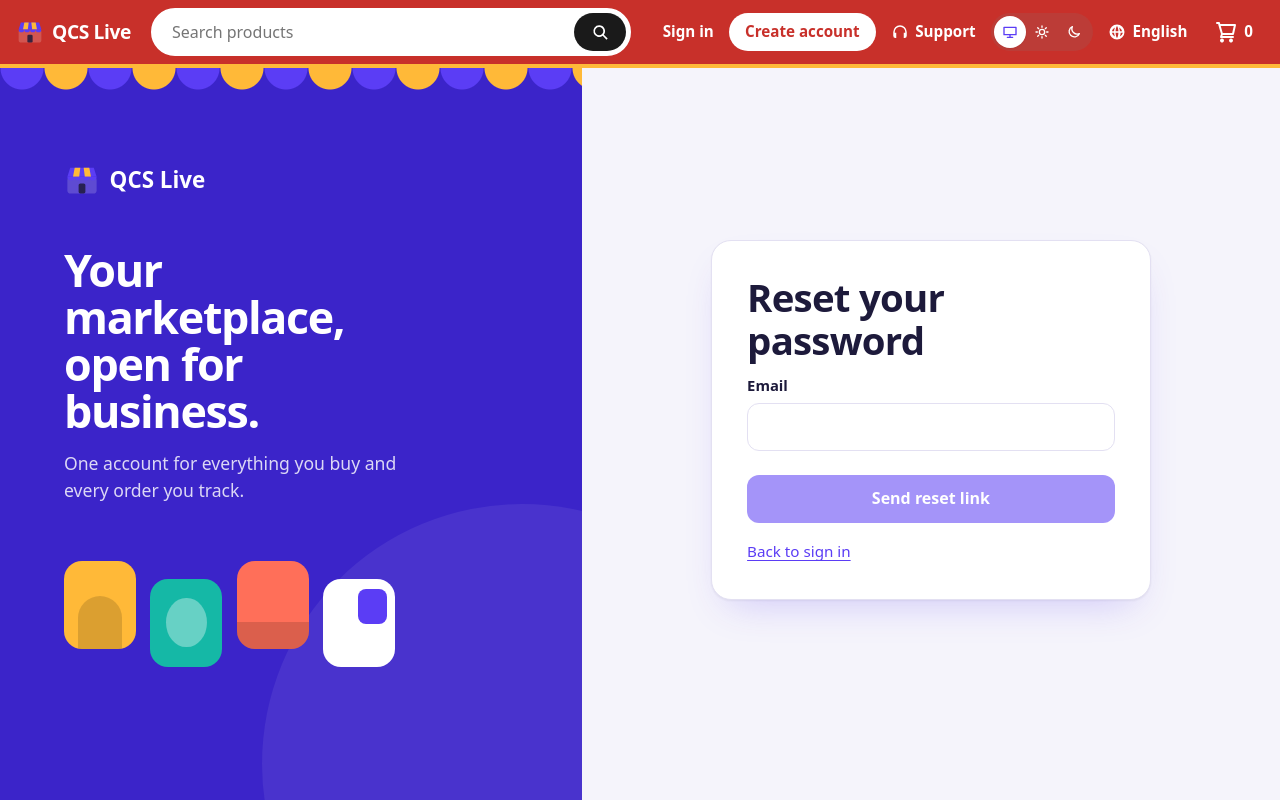
password reset › always confirms the request without revealing whether the account exists
Step 1. Type "ghost@example.com" into the field labelled "Email" → (931, 427), box [747, 403, 1115, 451]
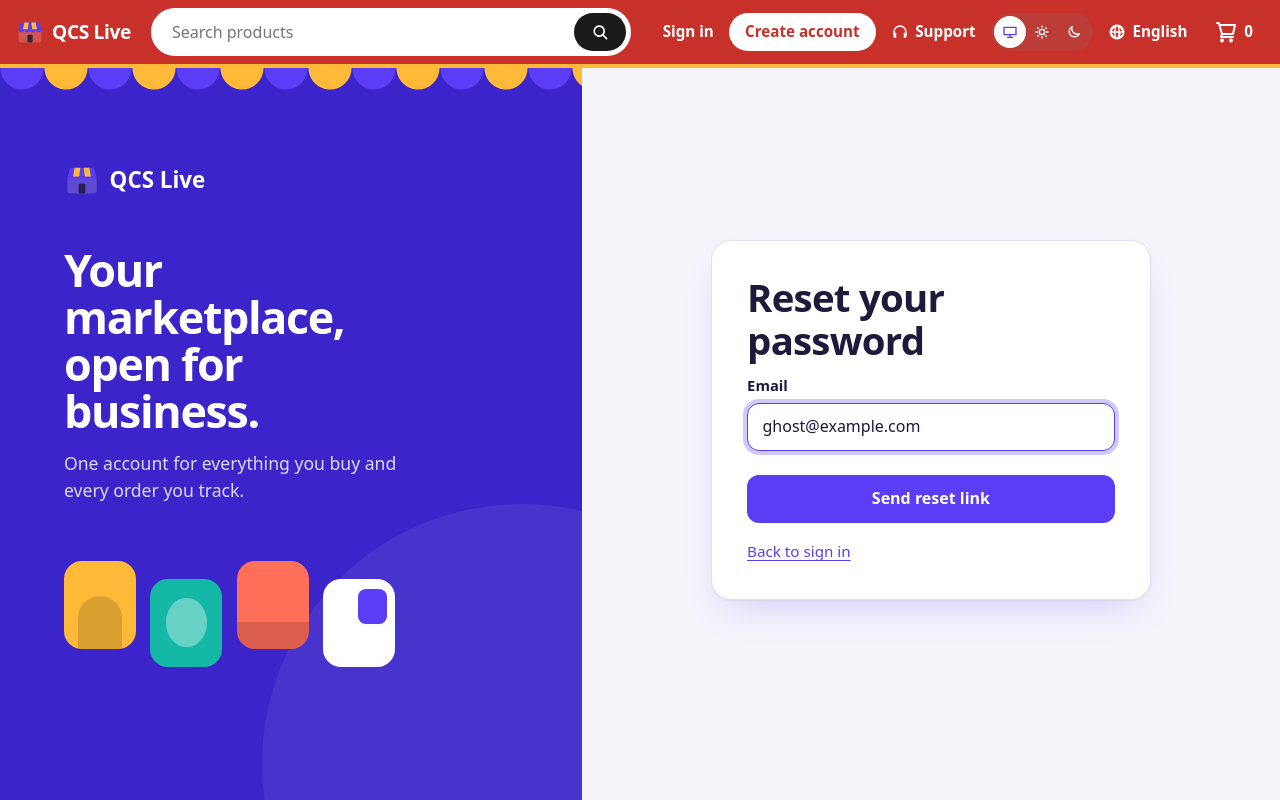
Step 2. Click the button "Send reset link" → (931, 499), box [747, 475, 1115, 523]
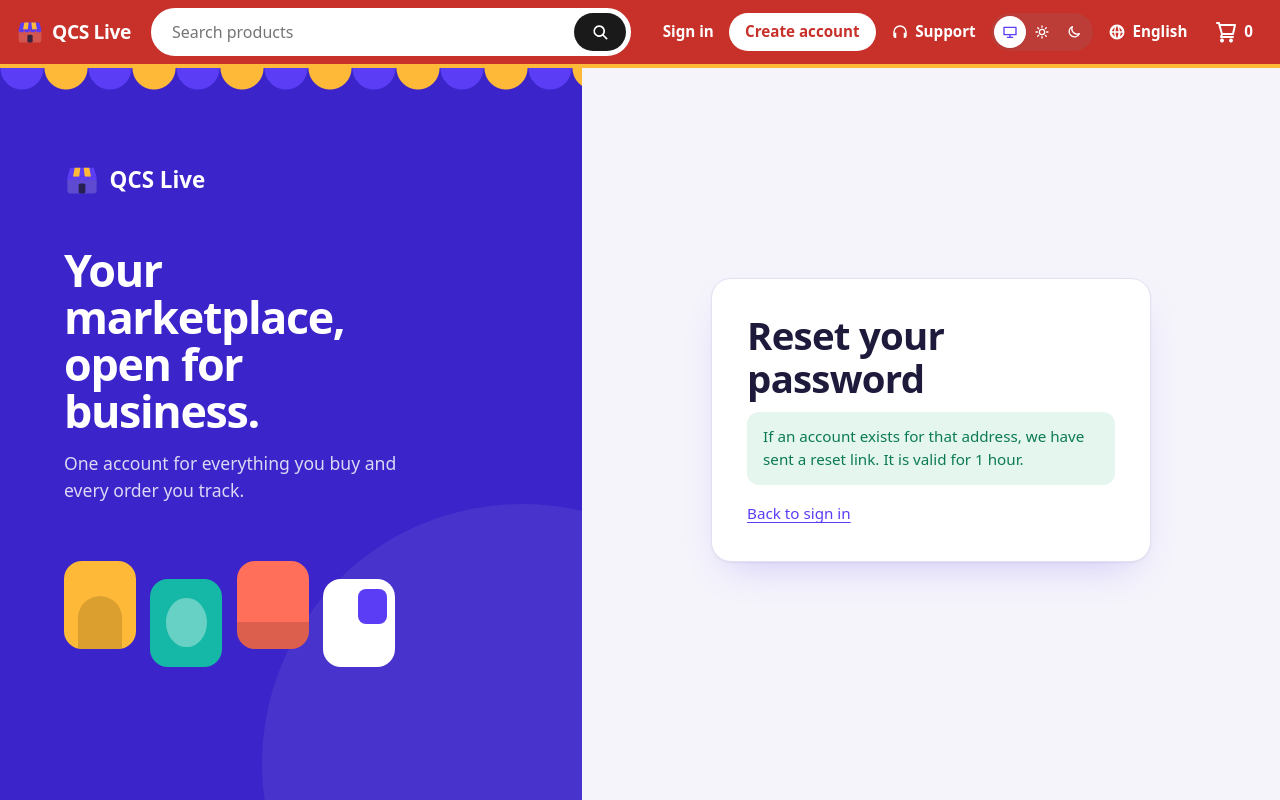
Now the message shows "If an account exists", box [763, 426, 1084, 470]
